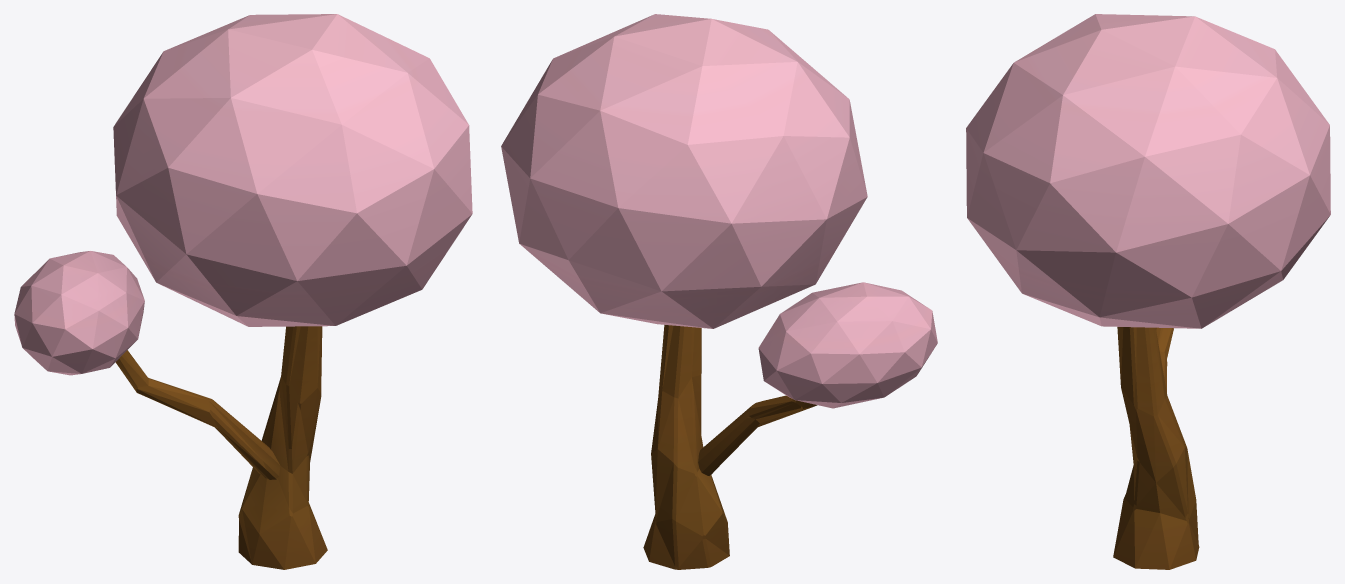
Rendered from tree_round.glb.
The picture shows the model from 3 angles, left to right: view 1: azimuth 30°, elevation 25°; view 2: azimuth 150°, elevation 25°; view 3: azimuth 270°, elevation 25°; orthographic projection.
Visible parts, largest first — view 1: tree_round; view 2: tree_round; view 3: tree_round.
Boxes of the visible parts, bbox=[...] form: tree_round: bbox=[14, 14, 472, 569]; tree_round: bbox=[501, 14, 937, 569]; tree_round: bbox=[966, 14, 1330, 569].
Size of the model in its own units: 2.93 by 3.5 by 2.21.
1 material, 1 textured.
